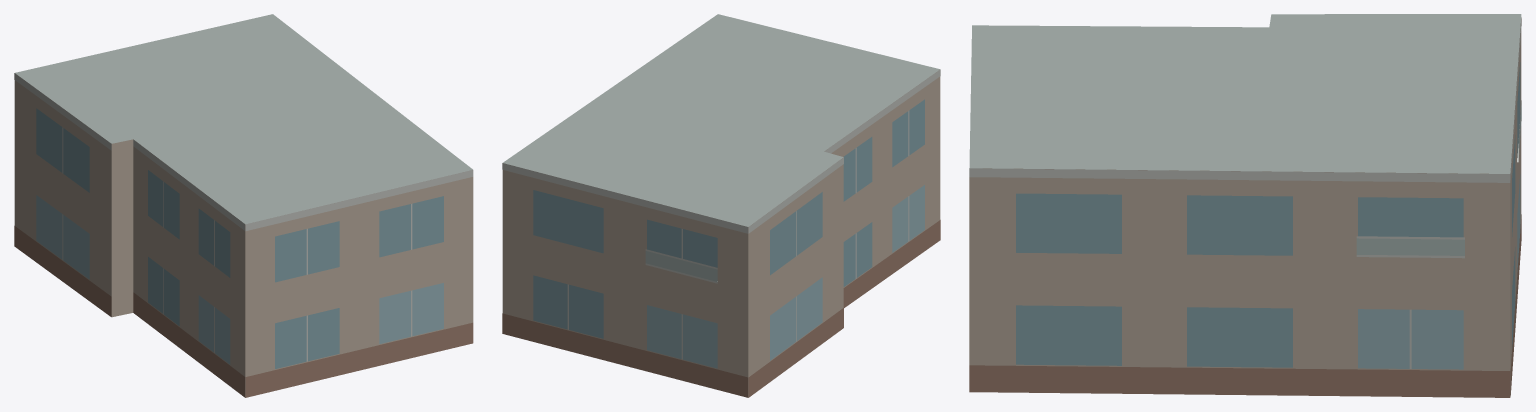
File: survey-upis-32661793.glb
The picture shows the model from 3 angles, left to right: view 1: azimuth 30°, elevation 25°; view 2: azimuth 150°, elevation 25°; view 3: azimuth 270°, elevation 25°; orthographic projection. The views are drawn at different scales.
Parts seen in each view (by area): view 1: survey-upis-32661793.tmp; view 2: survey-upis-32661793.tmp; view 3: survey-upis-32661793.tmp.
Part boxes in pixels (x1,y1,x2,y2): survey-upis-32661793.tmp: (14,14,473,397); survey-upis-32661793.tmp: (502,14,940,397); survey-upis-32661793.tmp: (969,14,1521,397).
Bounding box in the file's own units: 9.37 × 6.1 × 13.65.
